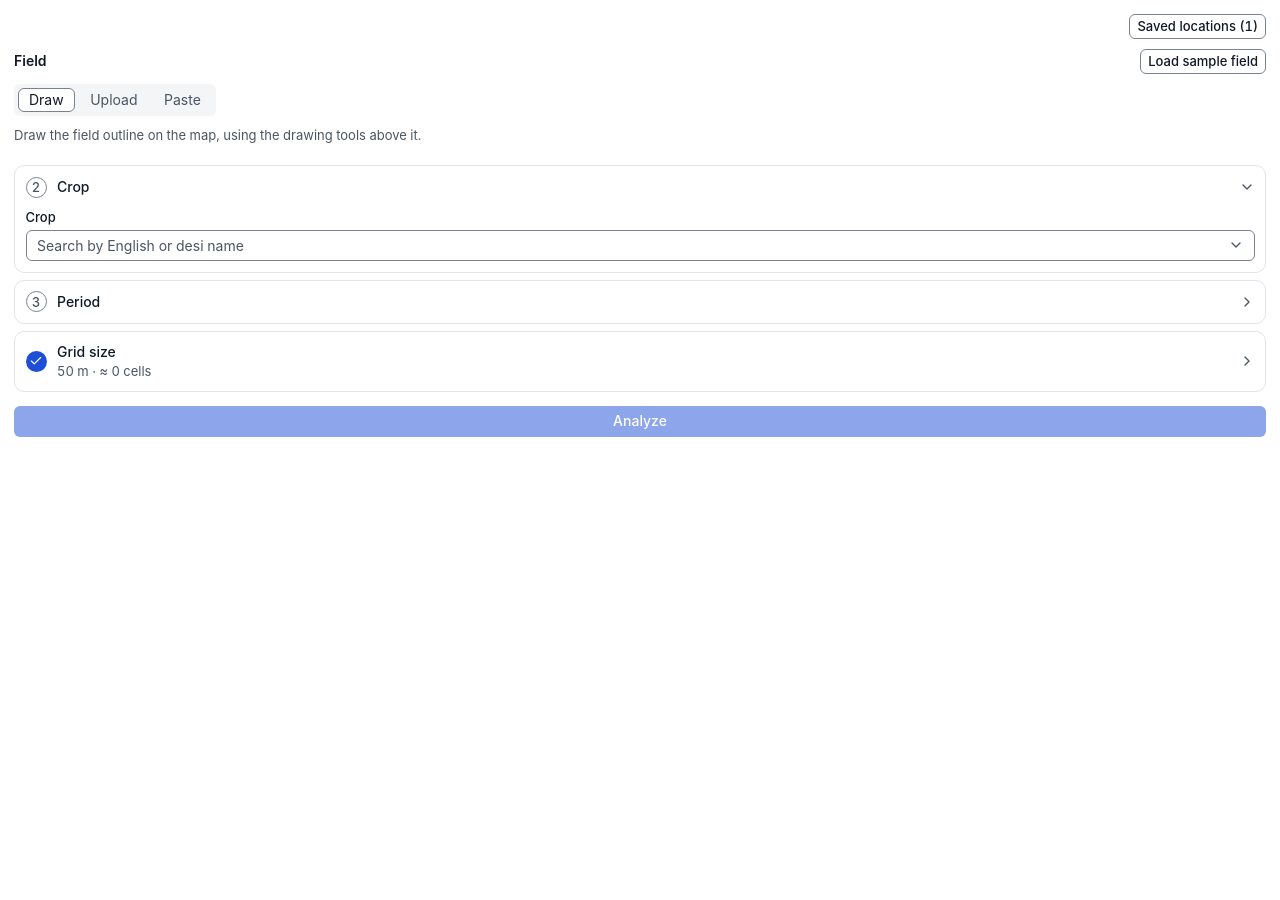
SetupSlot › saved locations › has a Saved locations button that opens the dialog
The width and height of the screenshot is (1280, 900).
Step 1. Click the button "Saved locations (1)" → (1198, 26), box [1129, 14, 1266, 38]
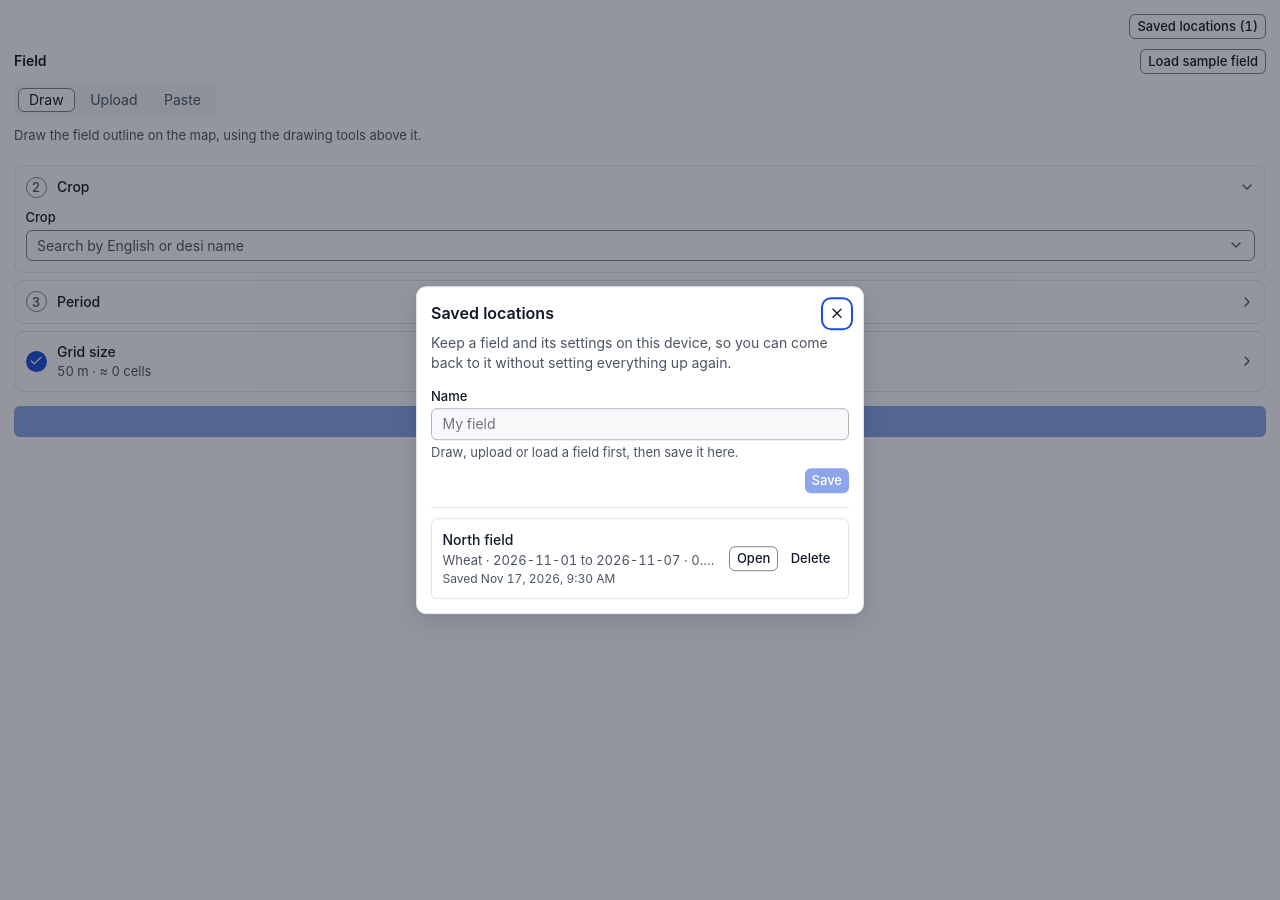
Result: the dialog "Saved locations" is shown at [416, 286, 864, 614]
